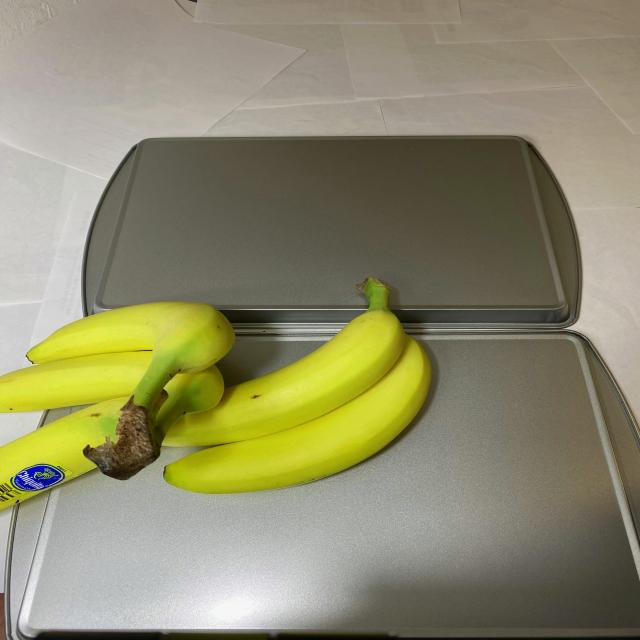banana: (4, 272, 435, 531)
